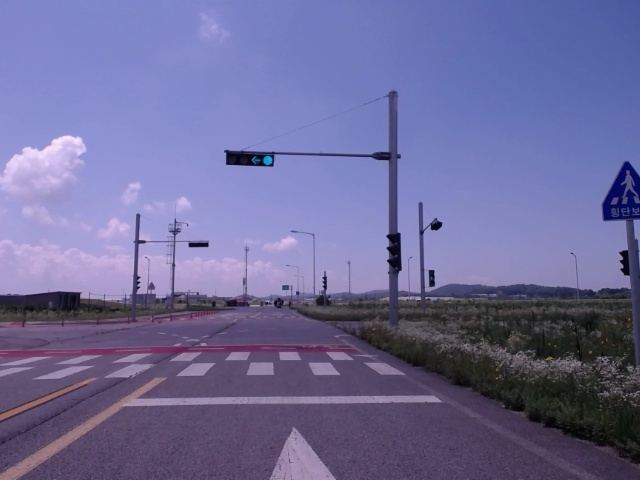all_green_4: (226, 145, 281, 168)
